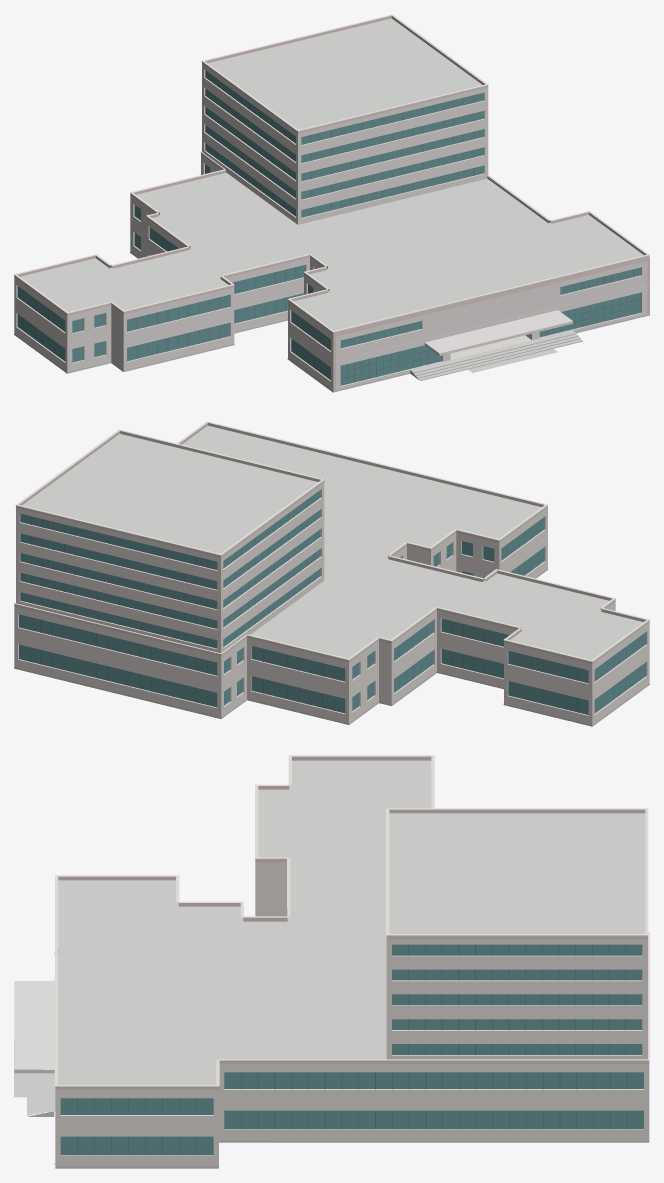
3 renders of one model, top to bottom at view 1: azimuth 30°, elevation 25°; view 2: azimuth 150°, elevation 25°; view 3: azimuth 270°, elevation 25°, orthographic. The views are drawn at different scales.
Visible parts, largest first — view 1: student__roof, student__wall, student__glass, student__parapet, student__trim, student__frame, student__canopyTop, student__externalStairTreads, student__externalStairRisers, student__base, student__step, student__entranceThreshold_0; view 2: student__roof, student__wall, student__glass, student__parapet, student__trim, student__frame, student__base; view 3: student__roof, student__wall, student__glass, student__trim, student__parapet, student__canopyTop, student__frame, student__base, student__externalStairTreads.
Boxes of the visible parts, box(x1,y1,x2,y2) form: student__roof: box(20, 18, 643, 330); student__wall: box(14, 64, 649, 391); student__glass: box(17, 70, 641, 385); student__parapet: box(14, 15, 649, 392); student__trim: box(14, 14, 649, 361); student__frame: box(23, 79, 640, 384); student__canopyTop: box(425, 310, 572, 353); student__externalStairTreads: box(412, 331, 582, 380); student__externalStairRisers: box(414, 333, 582, 380); student__base: box(14, 252, 647, 392); student__step: box(410, 330, 573, 372); student__entranceThreshold_0: box(450, 335, 531, 359); student__roof: box(22, 425, 643, 659); student__wall: box(14, 483, 649, 726); student__glass: box(19, 490, 645, 714); student__parapet: box(14, 422, 649, 664); student__trim: box(14, 421, 649, 661); student__frame: box(29, 494, 633, 712); student__base: box(14, 569, 649, 726); student__roof: box(58, 760, 645, 1084); student__wall: box(55, 862, 649, 1166); student__glass: box(60, 944, 643, 1155); student__trim: box(54, 755, 649, 1086); student__parapet: box(54, 756, 649, 1089); student__canopyTop: box(14, 981, 54, 1069); student__frame: box(77, 944, 627, 1155); student__base: box(54, 1140, 649, 1168); student__externalStairTreads: box(27, 1073, 50, 1115).
Size of the model in its own units: 85.67 by 24.97 by 69.59.
